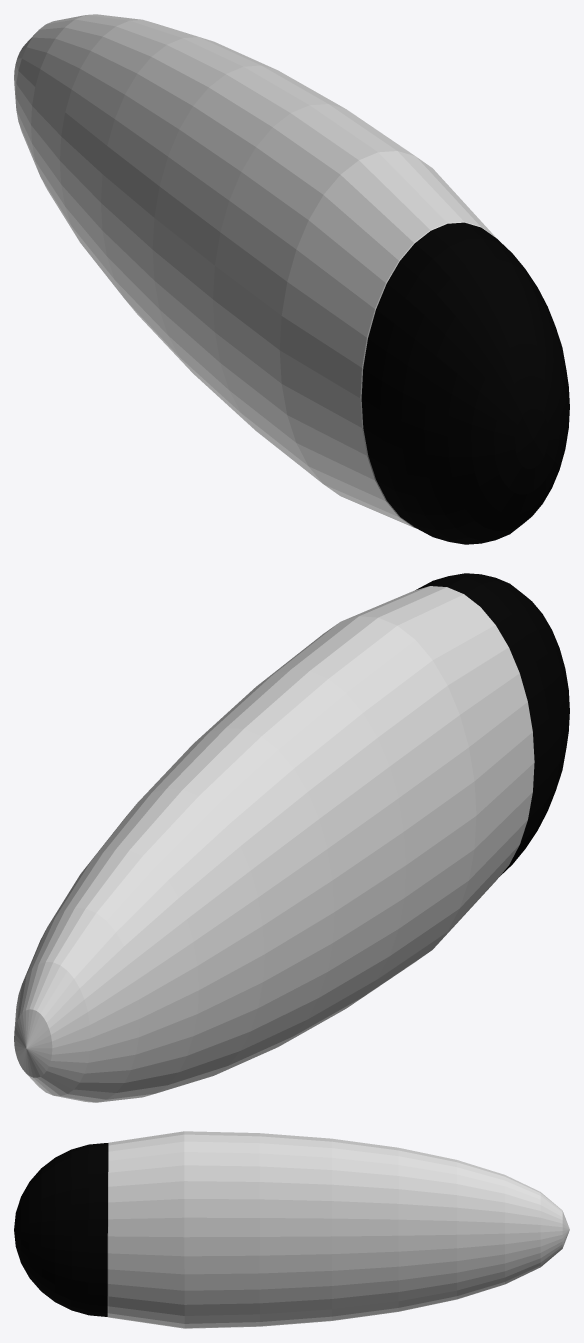
3 views of the same model, one above another, from view 1: azimuth 30°, elevation 25°; view 2: azimuth 150°, elevation 25°; view 3: azimuth 270°, elevation 25° (orthographic). The views are drawn at different scales.
Visible parts, largest first — view 1: 球.001, 球; view 2: 球.001, 球; view 3: 球.001, 球.
Boxes of the visible parts, x1,y1,x2,y2 form: 球.001: (14,14,495,528); 球: (361,222,569,544); 球.001: (14,586,534,1102); 球: (415,573,569,876); 球.001: (107,1131,569,1328); 球: (14,1143,108,1316).
Size of the model in its own units: 3.72 by 6.29 by 16.61.
Materials: 1 (1 with a texture image).
